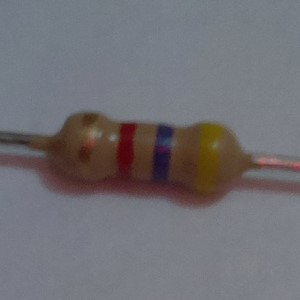gold_band: (75, 110, 102, 183)
red_band: (114, 120, 140, 182)
violet_band: (151, 120, 175, 185)
yellow_band: (192, 119, 227, 197)
